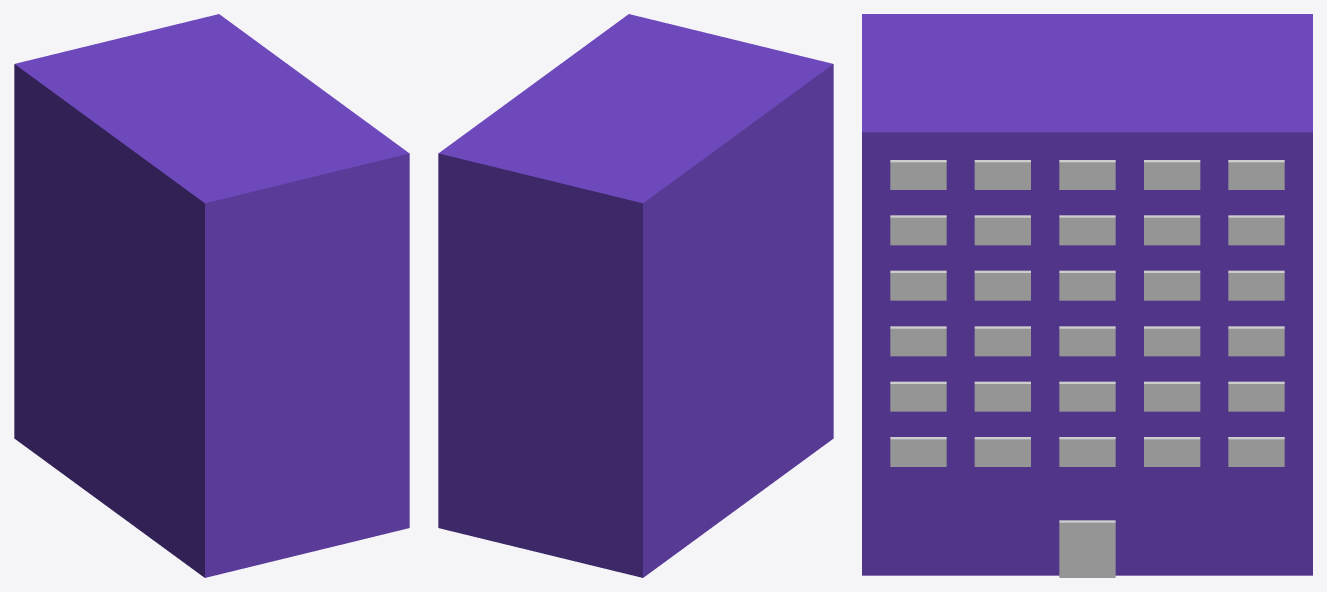
Rendered from predio8.fbx.
3 renders of one model, left to right at view 1: azimuth 30°, elevation 25°; view 2: azimuth 150°, elevation 25°; view 3: azimuth 270°, elevation 25°, orthographic. The views are drawn at different scales.
Visible parts, largest first — view 1: Cube; view 2: Cube; view 3: Cube.
Boxes of the visible parts, x1,y1,x2,y2 form: Cube: (14, 14, 409, 577); Cube: (438, 14, 833, 577); Cube: (862, 14, 1312, 577).
Size of the model in its own units: 294 by 504 by 464.
